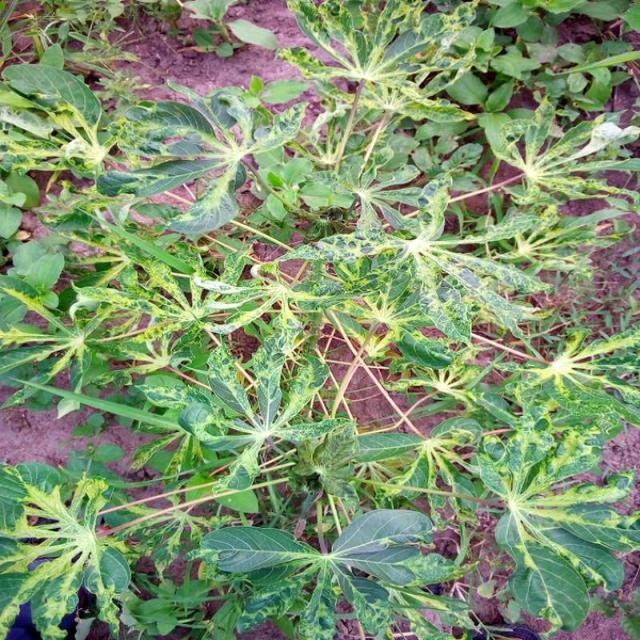Mosaico: (0, 437, 139, 633), (245, 0, 461, 126), (493, 397, 640, 568), (216, 499, 451, 604), (335, 207, 535, 327), (0, 37, 129, 221), (162, 327, 351, 438), (142, 90, 289, 219), (35, 278, 124, 429)
